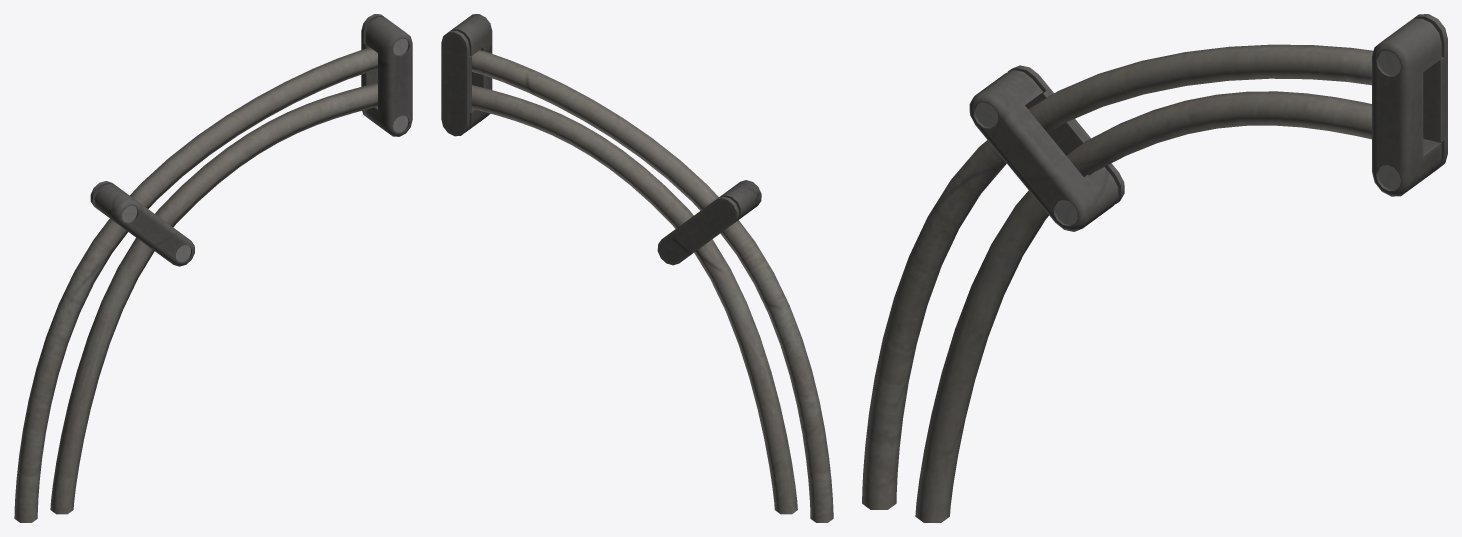
Rendered from cable_double_turn_long.glb.
The picture shows the model from 3 angles, left to right: view 1: azimuth 30°, elevation 25°; view 2: azimuth 150°, elevation 25°; view 3: azimuth 330°, elevation 25°; orthographic projection. The views are drawn at different scales.
Parts seen in each view (by area): view 1: cable_double_turn_long.001; view 2: cable_double_turn_long.001; view 3: cable_double_turn_long.001.
Part boxes in pixels (<box>): cable_double_turn_long.001: <box>14,14,412,522</box>; cable_double_turn_long.001: <box>441,14,833,522</box>; cable_double_turn_long.001: <box>862,14,1447,522</box>.
Bounding box in the file's own units: 0.212 × 0.2178 × 0.0259.
Materials: 1 (1 with a texture image).
